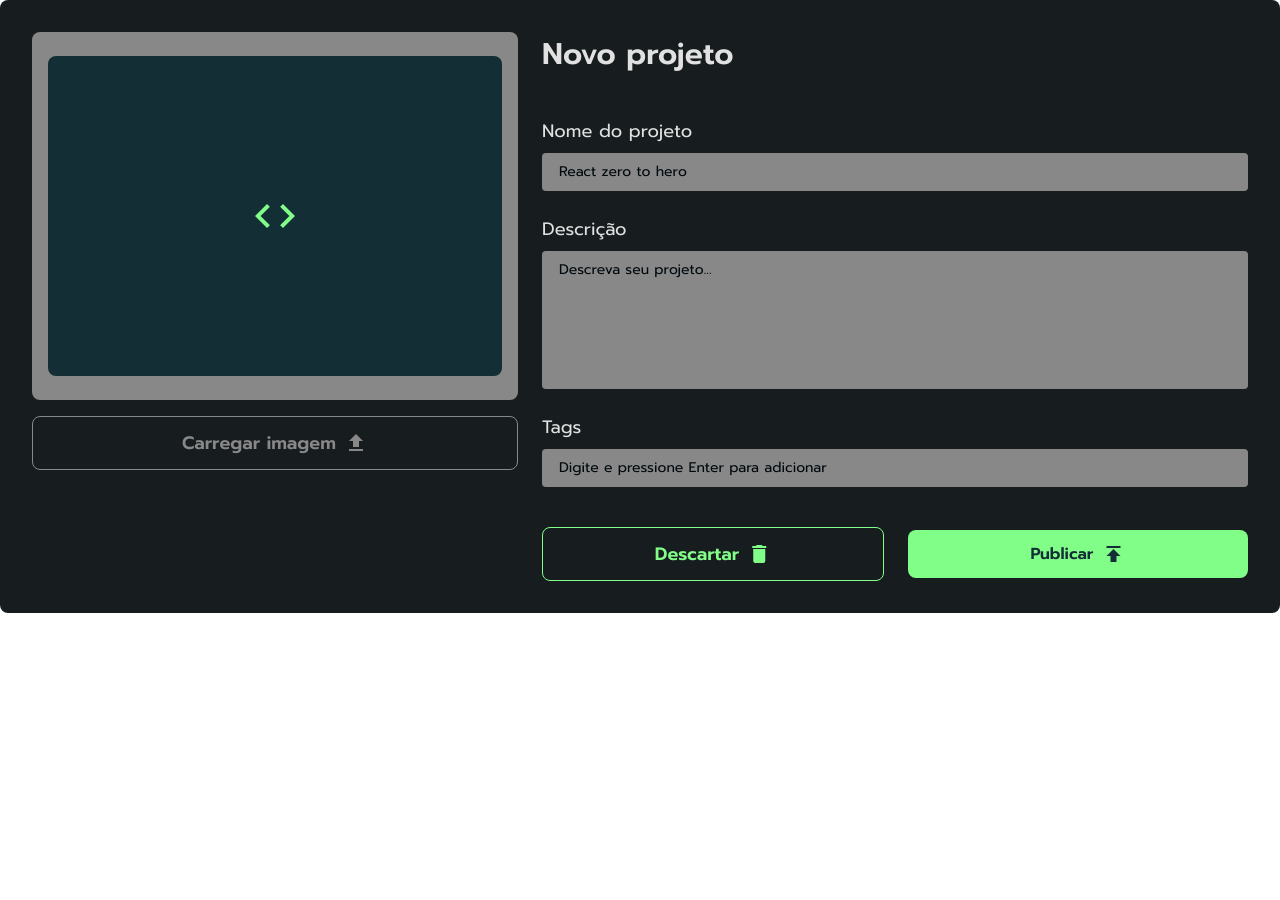
Test: PublishPage › shows validation error when submitting empty form
Click the button "Publicar".
click(1078, 554)  # box top-left (908, 530), bottom-right (1248, 578)
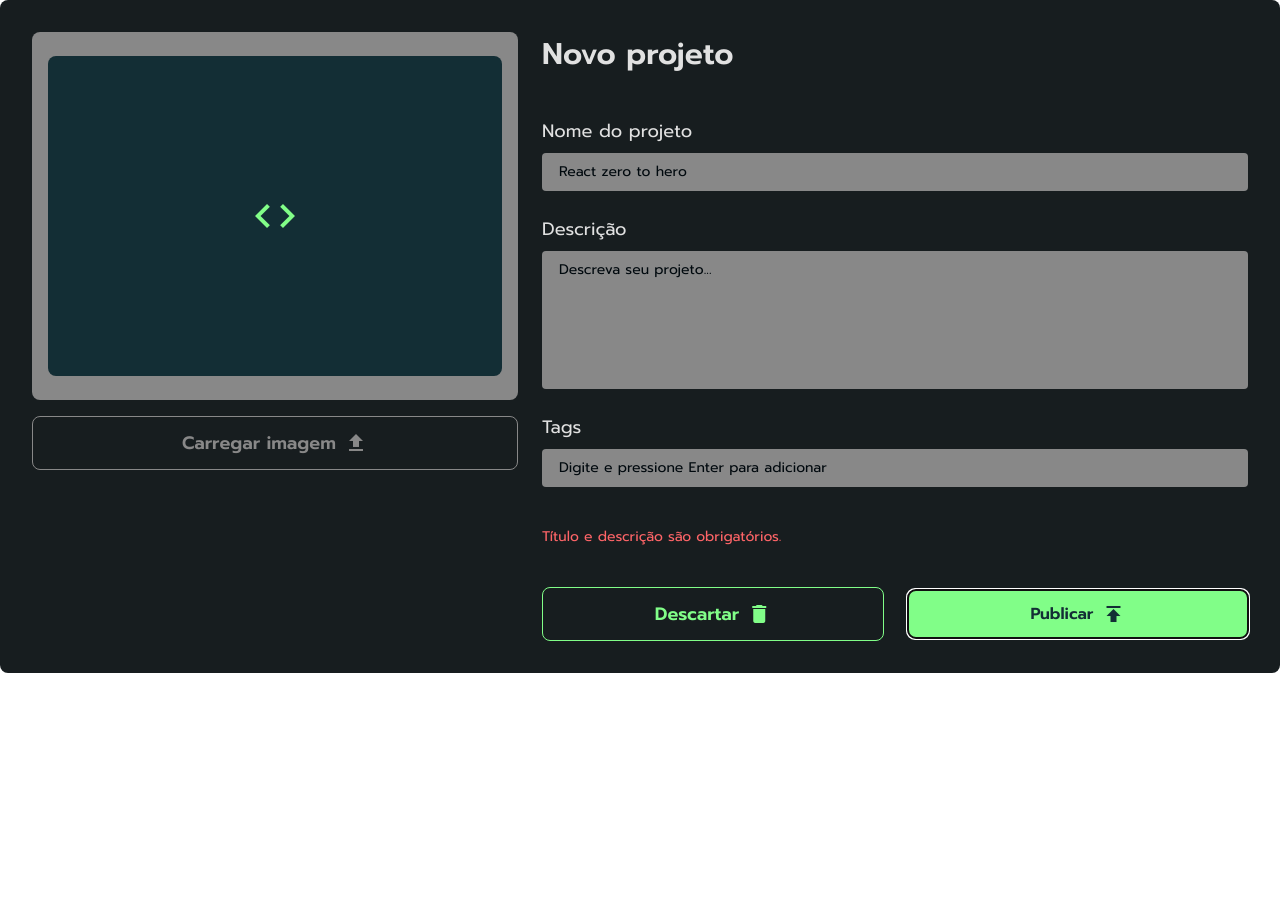
Check: the text "Título e descrição são obrigatórios." is shown, box top-left (542, 526), bottom-right (781, 547)
